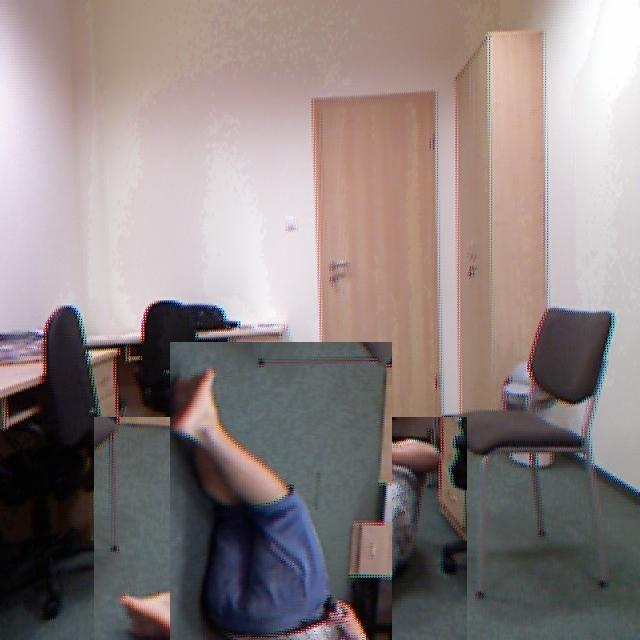Fall: (156, 380, 375, 640)
